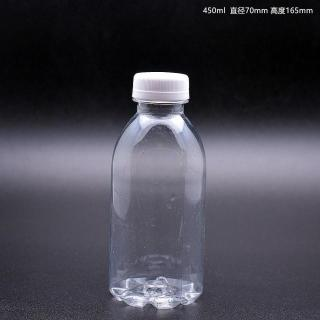Plastic-bottle: (106, 69, 210, 313)
